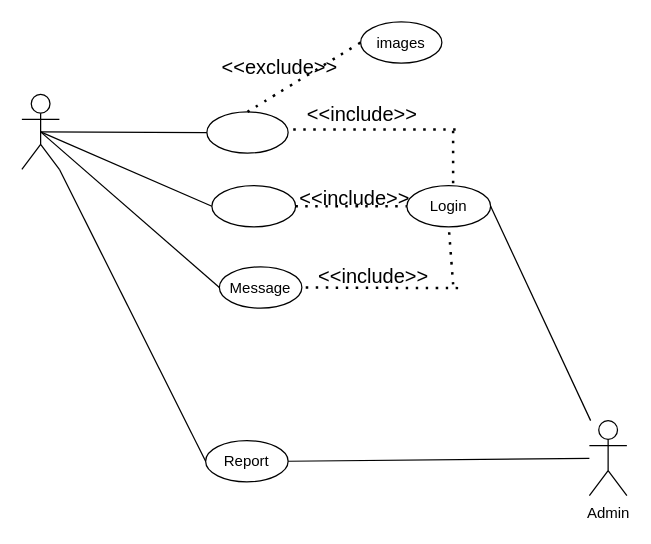
This 651x544 diagram has some shape labels left out. The centre of each missing label's shape, as x and y in pixels:
"Follower" belongs at point 253,205.
"Post" belongs at point 247,132.
"User" belongs at point 40,131.
